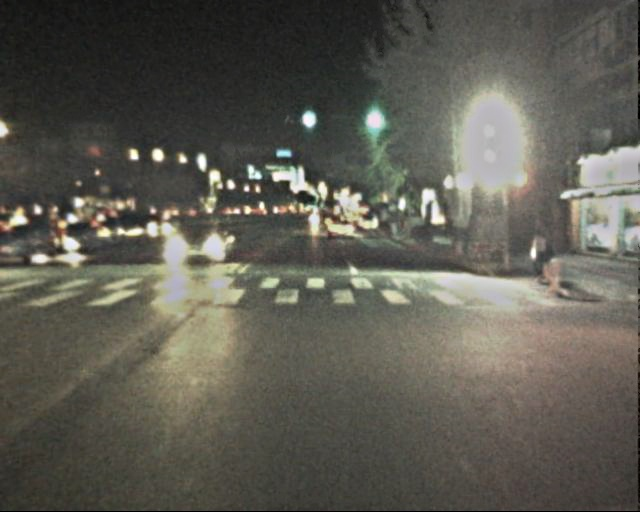person: (528, 222, 555, 285)
